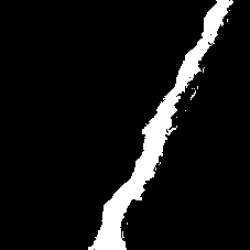crack: (87, 4, 233, 250)
